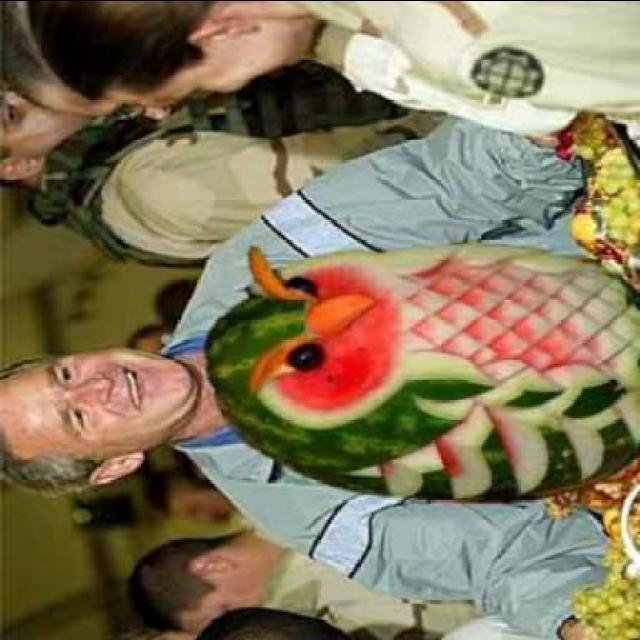Watermelon: (200, 238, 638, 507)
